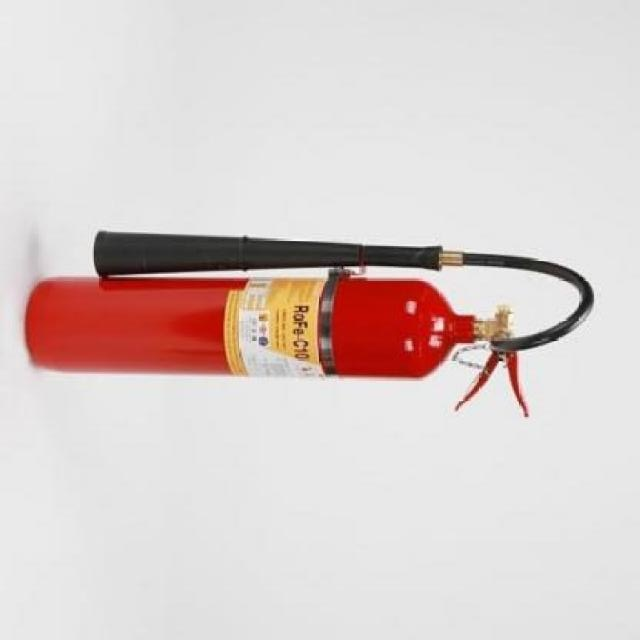fire extinguisher: (22, 231, 595, 418)
